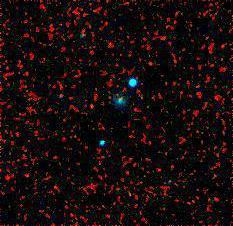star: (79, 94, 109, 124)
